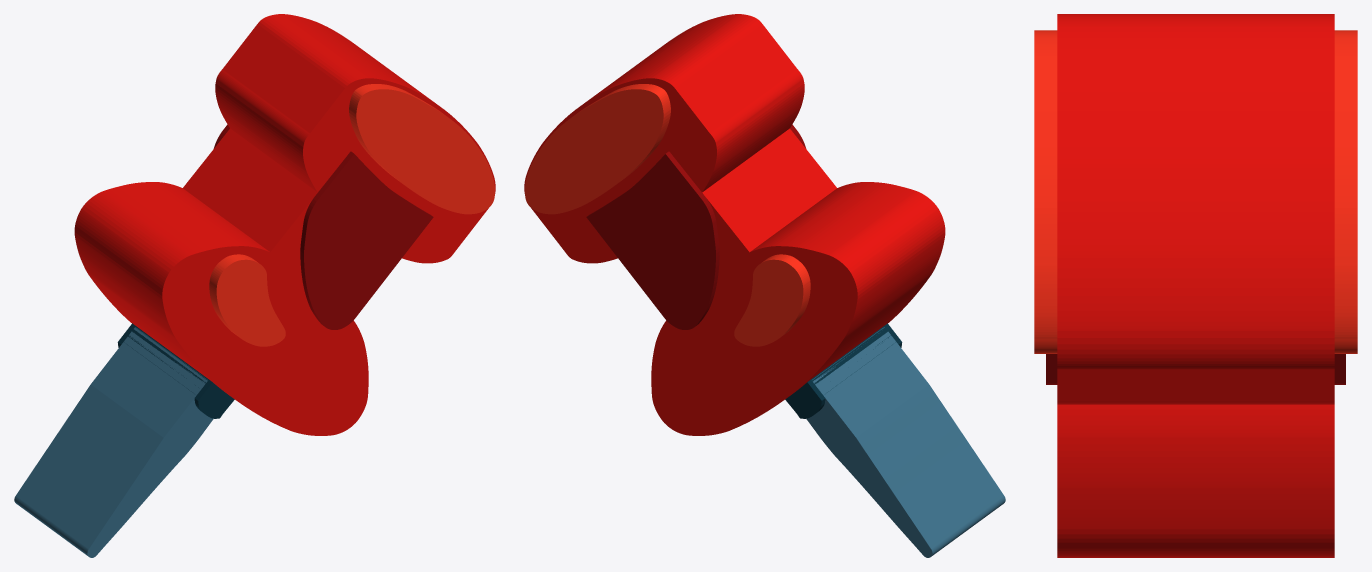
The picture shows the model from 3 angles, left to right: view 1: azimuth 30°, elevation 25°; view 2: azimuth 150°, elevation 25°; view 3: azimuth 270°, elevation 25°; orthographic projection. The views are drawn at different scales.
Parts seen in each view (by area): view 1: U+1F4CC_layer02_obj00, U+1F4CC_layer00_obj00, U+1F4CC_layer02_obj03, U+1F4CC_layer03_obj00, U+1F4CC_layer04_obj01, U+1F4CC_layer02_obj01, U+1F4CC_layer02_obj02, U+1F4CC_layer04_obj00, U+1F4CC_layer01_obj00; view 2: U+1F4CC_layer02_obj00, U+1F4CC_layer00_obj00, U+1F4CC_layer02_obj03, U+1F4CC_layer03_obj00, U+1F4CC_layer04_obj01, U+1F4CC_layer02_obj01, U+1F4CC_layer02_obj02, U+1F4CC_layer04_obj00, U+1F4CC_layer01_obj00; view 3: U+1F4CC_layer02_obj02, U+1F4CC_layer02_obj00, U+1F4CC_layer04_obj01, U+1F4CC_layer02_obj03, U+1F4CC_layer03_obj00.
Part boxes in pixels (x1,y1,x2,y2): U+1F4CC_layer02_obj00: [74, 155, 427, 435]; U+1F4CC_layer00_obj00: [14, 327, 213, 557]; U+1F4CC_layer02_obj03: [215, 24, 488, 263]; U+1F4CC_layer03_obj00: [213, 124, 433, 329]; U+1F4CC_layer04_obj01: [260, 15, 494, 214]; U+1F4CC_layer02_obj01: [183, 128, 337, 334]; U+1F4CC_layer02_obj02: [258, 14, 495, 215]; U+1F4CC_layer04_obj00: [209, 254, 285, 346]; U+1F4CC_layer01_obj00: [117, 323, 234, 418]; U+1F4CC_layer02_obj00: [591, 156, 945, 435]; U+1F4CC_layer00_obj00: [806, 327, 1005, 557]; U+1F4CC_layer02_obj03: [531, 24, 804, 263]; U+1F4CC_layer03_obj00: [586, 124, 806, 329]; U+1F4CC_layer04_obj01: [525, 15, 759, 214]; U+1F4CC_layer02_obj01: [679, 128, 836, 334]; U+1F4CC_layer02_obj02: [524, 14, 761, 215]; U+1F4CC_layer04_obj00: [734, 254, 810, 346]; U+1F4CC_layer01_obj00: [785, 323, 902, 418]; U+1F4CC_layer02_obj02: [1057, 14, 1334, 369]; U+1F4CC_layer02_obj00: [1057, 404, 1334, 557]; U+1F4CC_layer04_obj01: [1034, 30, 1357, 353]; U+1F4CC_layer02_obj03: [1057, 369, 1334, 404]; U+1F4CC_layer03_obj00: [1046, 354, 1345, 384].
Size of the model in its own units: 0.3167 by 0.3174 by 0.14.
